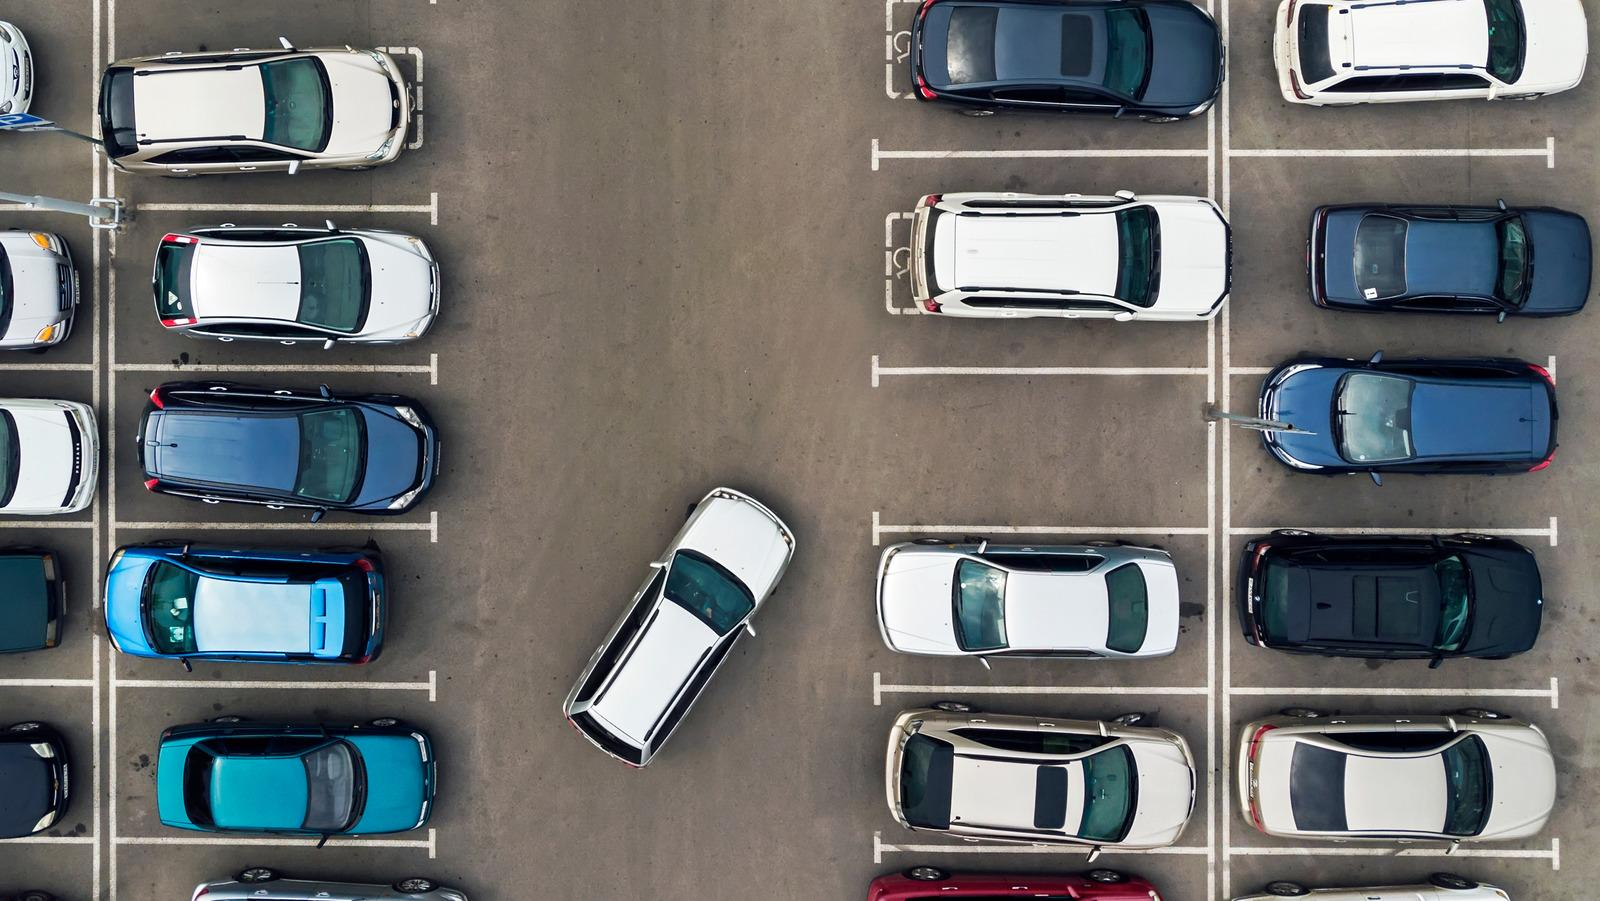occupied: (876, 154, 1212, 371), (1226, 152, 1553, 371), (877, 529, 1211, 691), (877, 689, 1211, 852), (1226, 691, 1556, 855), (1226, 369, 1554, 533), (111, 205, 434, 369), (1227, 531, 1555, 691), (113, 683, 433, 845), (112, 526, 434, 686), (112, 368, 434, 526)
vacant: (875, 371, 1211, 531)
